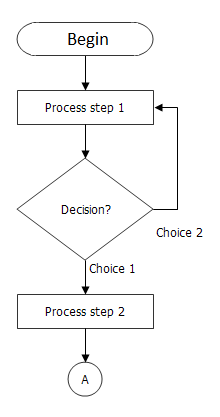arrow: (152, 104, 180, 213), (79, 53, 92, 92), (80, 122, 92, 160), (80, 258, 92, 296), (82, 326, 92, 364)
connection: (65, 360, 105, 398)
decision: (13, 158, 156, 262)
process: (14, 291, 156, 331), (14, 88, 156, 127)
terminator: (14, 20, 155, 58)
text: (43, 101, 125, 115), (44, 305, 125, 319), (58, 202, 113, 217), (66, 31, 111, 49), (155, 226, 206, 240), (88, 262, 135, 274), (80, 374, 90, 386)
